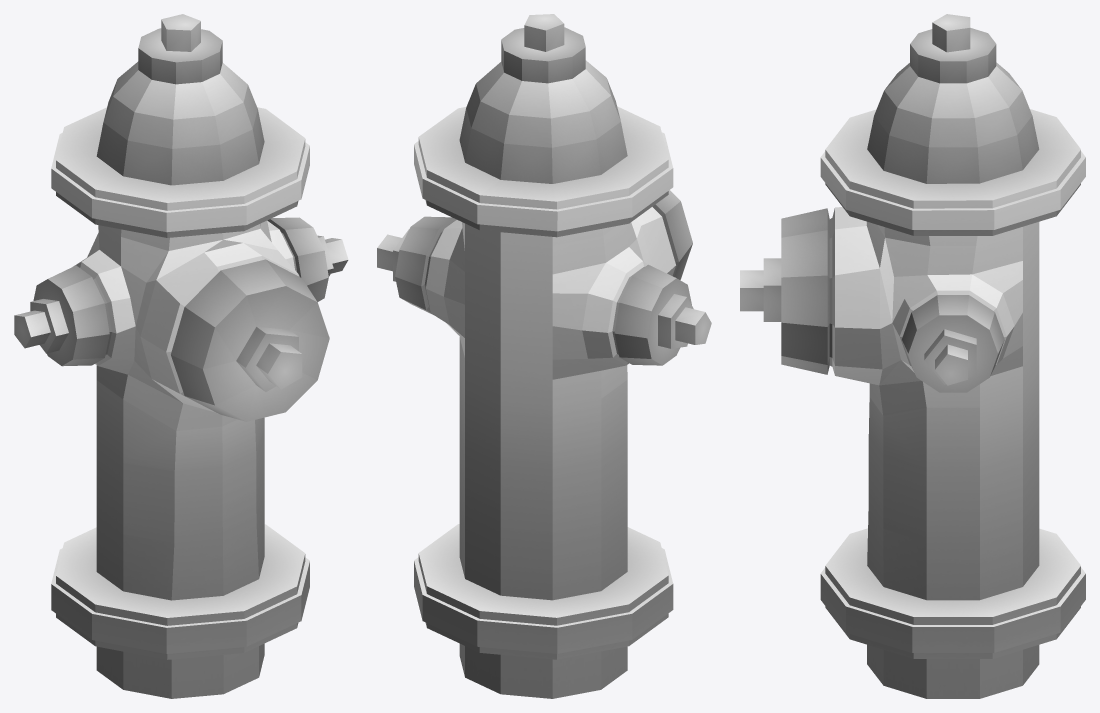
File: SM_Firehydrant_BnW_V3.fbx
The picture shows the model from 3 angles, left to right: view 1: azimuth 30°, elevation 25°; view 2: azimuth 150°, elevation 25°; view 3: azimuth 270°, elevation 25°; orthographic projection.
Visible parts, largest first — view 1: Cylinder002; view 2: Cylinder002; view 3: Cylinder002.
Boxes of the visible parts, <box> form: Cylinder002: <box>14,14,348,698</box>; Cylinder002: <box>377,14,711,698</box>; Cylinder002: <box>740,14,1085,698</box>.
Size of the model in its own units: 17.2 by 33.14 by 16.18.
